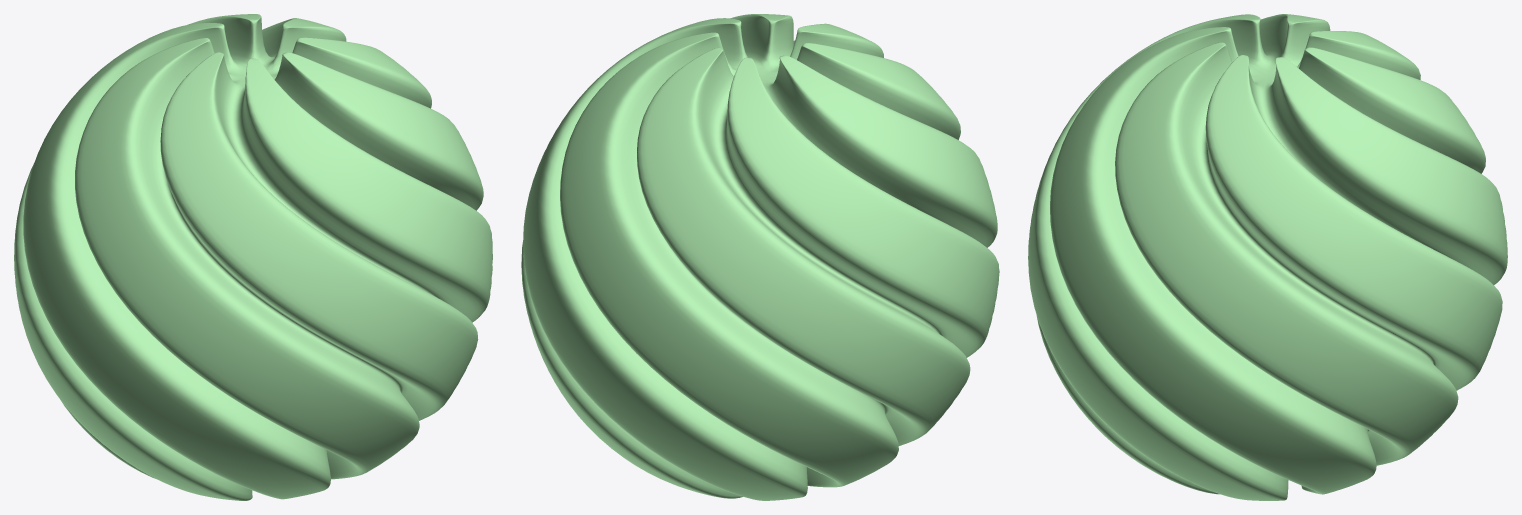
File: light_9.glb
The picture shows the model from 3 angles, left to right: view 1: azimuth 30°, elevation 25°; view 2: azimuth 150°, elevation 25°; view 3: azimuth 270°, elevation 25°; orthographic projection.
Parts seen in each view (by area): view 1: Sphere.049; view 2: Sphere.049; view 3: Sphere.049.
Boxes of the visible parts, left/top/right/bottom form: Sphere.049: left=14, top=14, right=492, bottom=500; Sphere.049: left=521, top=14, right=999, bottom=500; Sphere.049: left=1028, top=14, right=1507, bottom=500.
Bounding box in the file's own units: 1.95 × 1.96 × 1.95.
